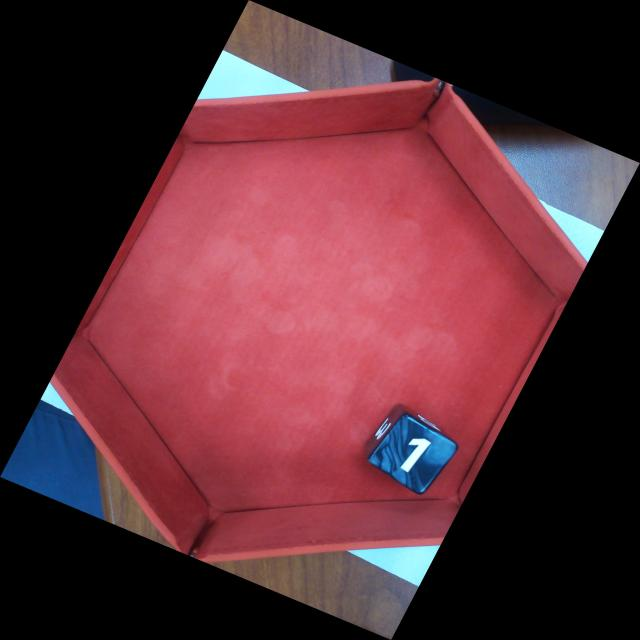dice: (363, 410, 462, 497)
